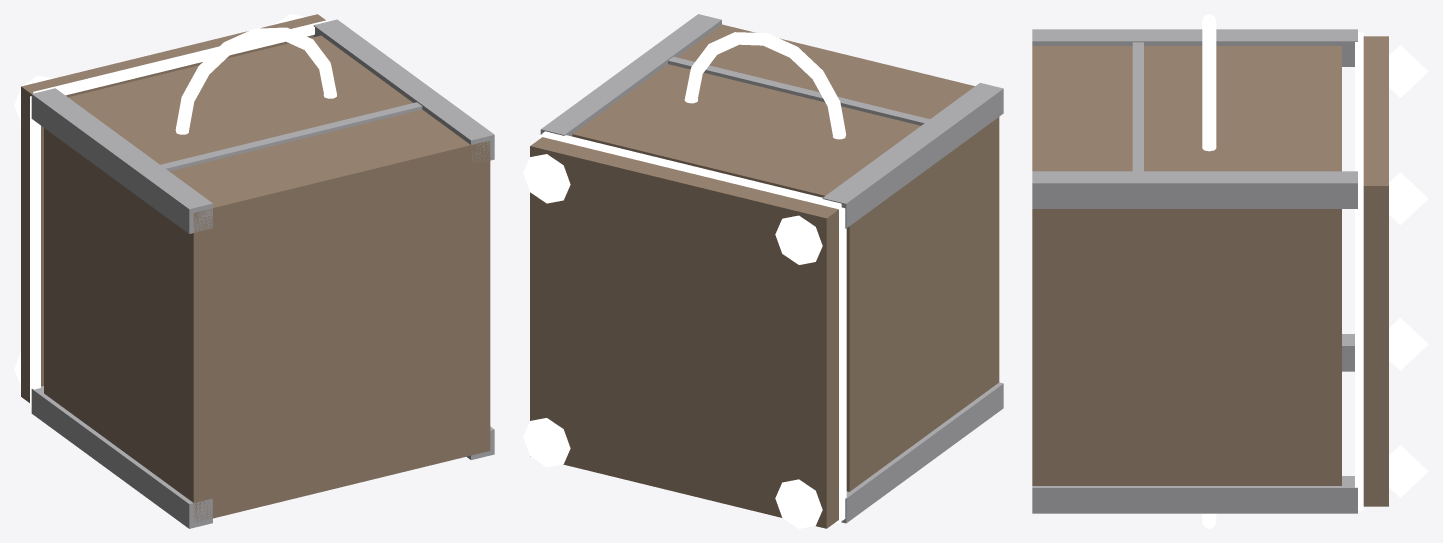
File: crate_mythic.glb
The picture shows the model from 3 angles, left to right: view 1: azimuth 30°, elevation 25°; view 2: azimuth 150°, elevation 25°; view 3: azimuth 270°, elevation 25°; orthographic projection. The views are drawn at different scales.
Visible parts, largest first — view 1: crate_body, lid_q3, seam_left, seam_back, lid_q1, lid_q4; view 2: crate_body, lid_q3, lid_q1, lid_q4, lid_q2, seam_left, seam_back; view 3: crate_body, lid_q4, lid_q2, seam_right, lid_q3, seam_back.
Part boxes in pixels (<box>): crate_body: <box>14,14,494,528</box>; lid_q3: <box>21,50,182,249</box>; seam_left: <box>30,96,40,407</box>; seam_back: <box>33,19,331,95</box>; lid_q1: <box>21,242,43,402</box>; lid_q4: <box>170,14,325,68</box>; crate_body: <box>523,14,1003,528</box>; lid_q3: <box>678,173,838,373</box>; lid_q1: <box>678,337,838,528</box>; lid_q4: <box>530,137,690,337</box>; lid_q2: <box>530,301,678,492</box>; seam_left: <box>839,207,846,520</box>; seam_back: <box>542,131,841,209</box>; crate_body: <box>1032,14,1428,528</box>; lid_q4: <box>1363,111,1388,346</box>; lid_q2: <box>1363,346,1388,506</box>; seam_right: <box>1355,186,1363,508</box>; lid_q3: <box>1363,36,1388,110</box>; seam_back: <box>1355,32,1363,185</box>.
Bounding box in the file's own units: 1.29 × 1.94 × 1.4.
